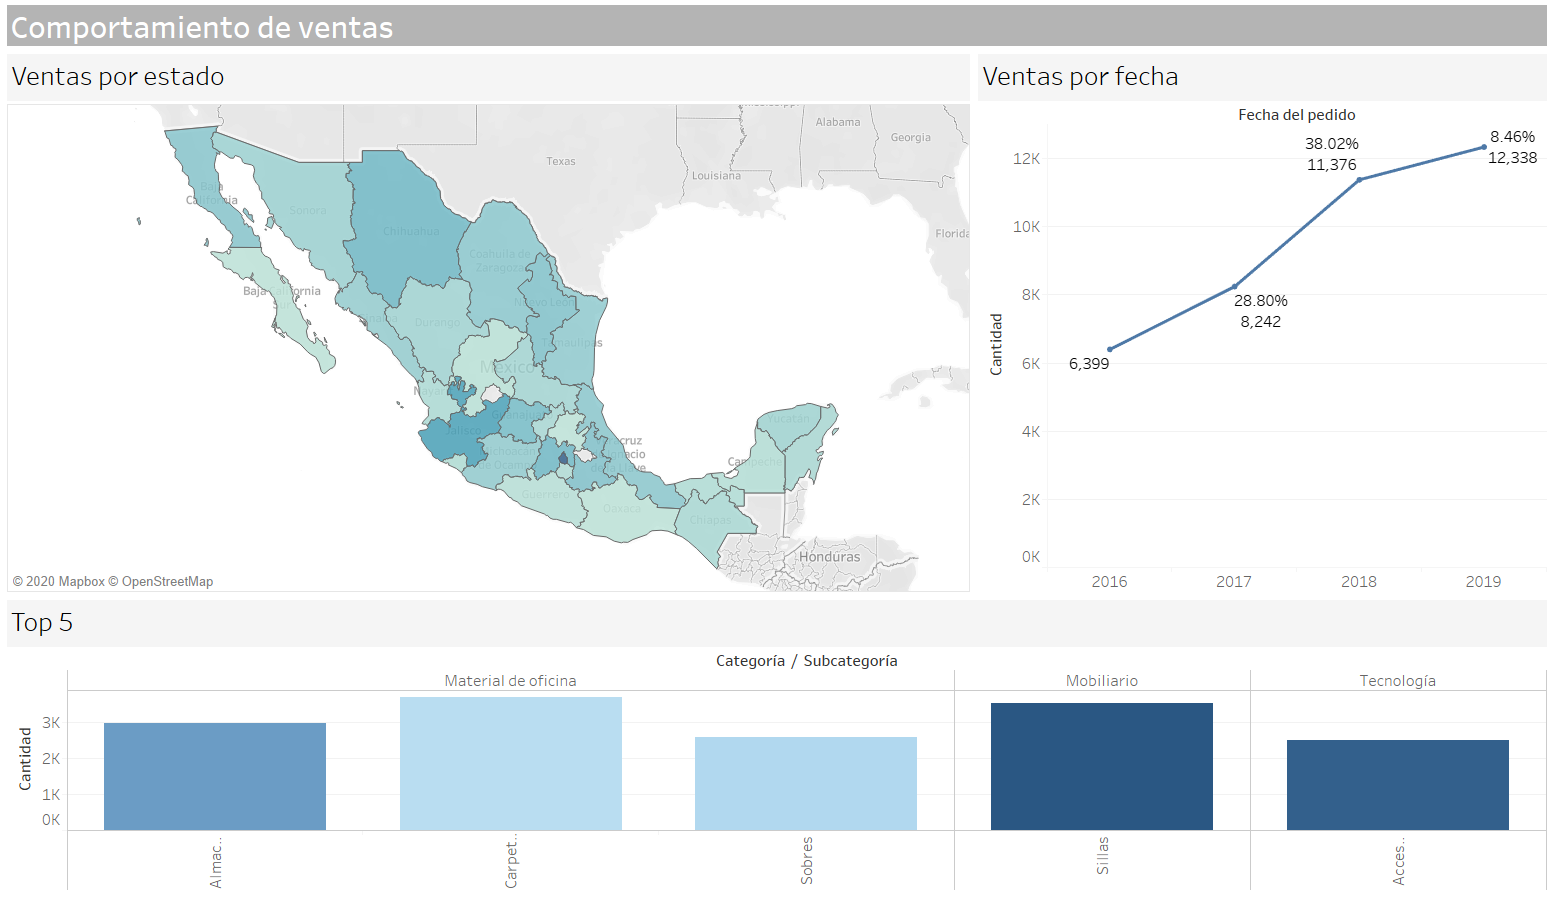

The dashboard page shown, as its layout file describes it:
{"tool":"tableau","page":{"name":"Dashboard","canvas":[1000,1000],"units":"permille","ordinal":0},"visuals":[{"type":"worksheet","box":[0,0,1000,1000]},{"type":"worksheet","param":"vert","box":[5.1,8.8,989.8,982.4]},{"type":"worksheet","box":[5.1,8.8,989.8,53.8]},{"type":"worksheet","box":[5.1,62.6,989.8,928.6]},{"type":"worksheet","param":"horz","box":[5.1,62.6,989.8,599.3]},{"type":"worksheet","box":[5.1,62.6,620.8,599.3]},{"type":"worksheet","title":"Ventas por estado","mark":"Automatic","box":[5.1,62.6,620.8,599.3]},{"type":"worksheet","title":"Ventas por fecha","mark":"Automatic","rows":["Cantidad"],"cols":["Fecha del pedido"],"box":[626,62.6,368.9,599.3]},{"type":"worksheet","title":"Top 5","mark":"Automatic","rows":["Cantidad"],"cols":["Categoría","Subcategoría"],"box":[5.1,661.9,989.8,329.3]}]}

Visuals, with their boxes on the dashboard's canvas, which has no fixed pixel size, in thousandths of its width and height (x1, y1, x2, y2). These are canvas units, not pixel positions in the 1549x897 screenshot, which may show the page scaled, cropped or inside an application window:
worksheet: box=[0, 0, 1000, 1000]
worksheet: box=[5, 9, 995, 991]
worksheet: box=[5, 9, 995, 63]
worksheet: box=[5, 63, 995, 991]
worksheet: box=[5, 63, 995, 662]
worksheet: box=[5, 63, 626, 662]
"Ventas por estado" worksheet: box=[5, 63, 626, 662]
"Ventas por fecha" worksheet: box=[626, 63, 995, 662]
"Top 5" worksheet: box=[5, 662, 995, 991]
